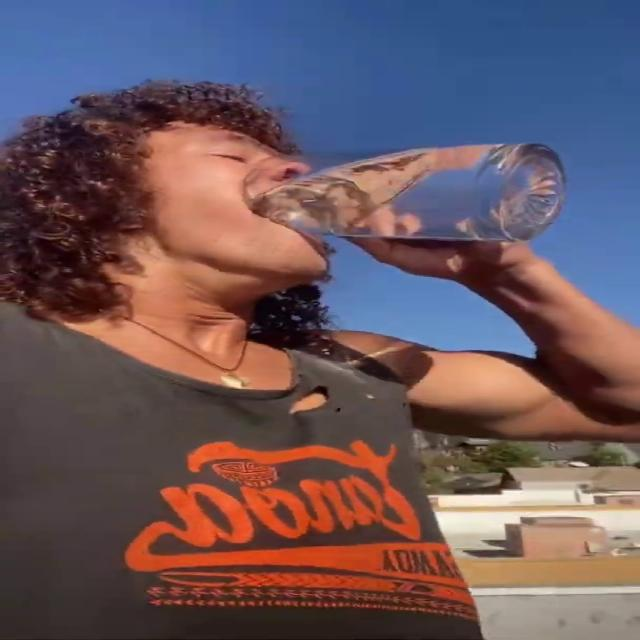Cup: (246, 141, 566, 244)
Hand: (341, 171, 534, 281)
Mouth: (226, 188, 330, 234)
